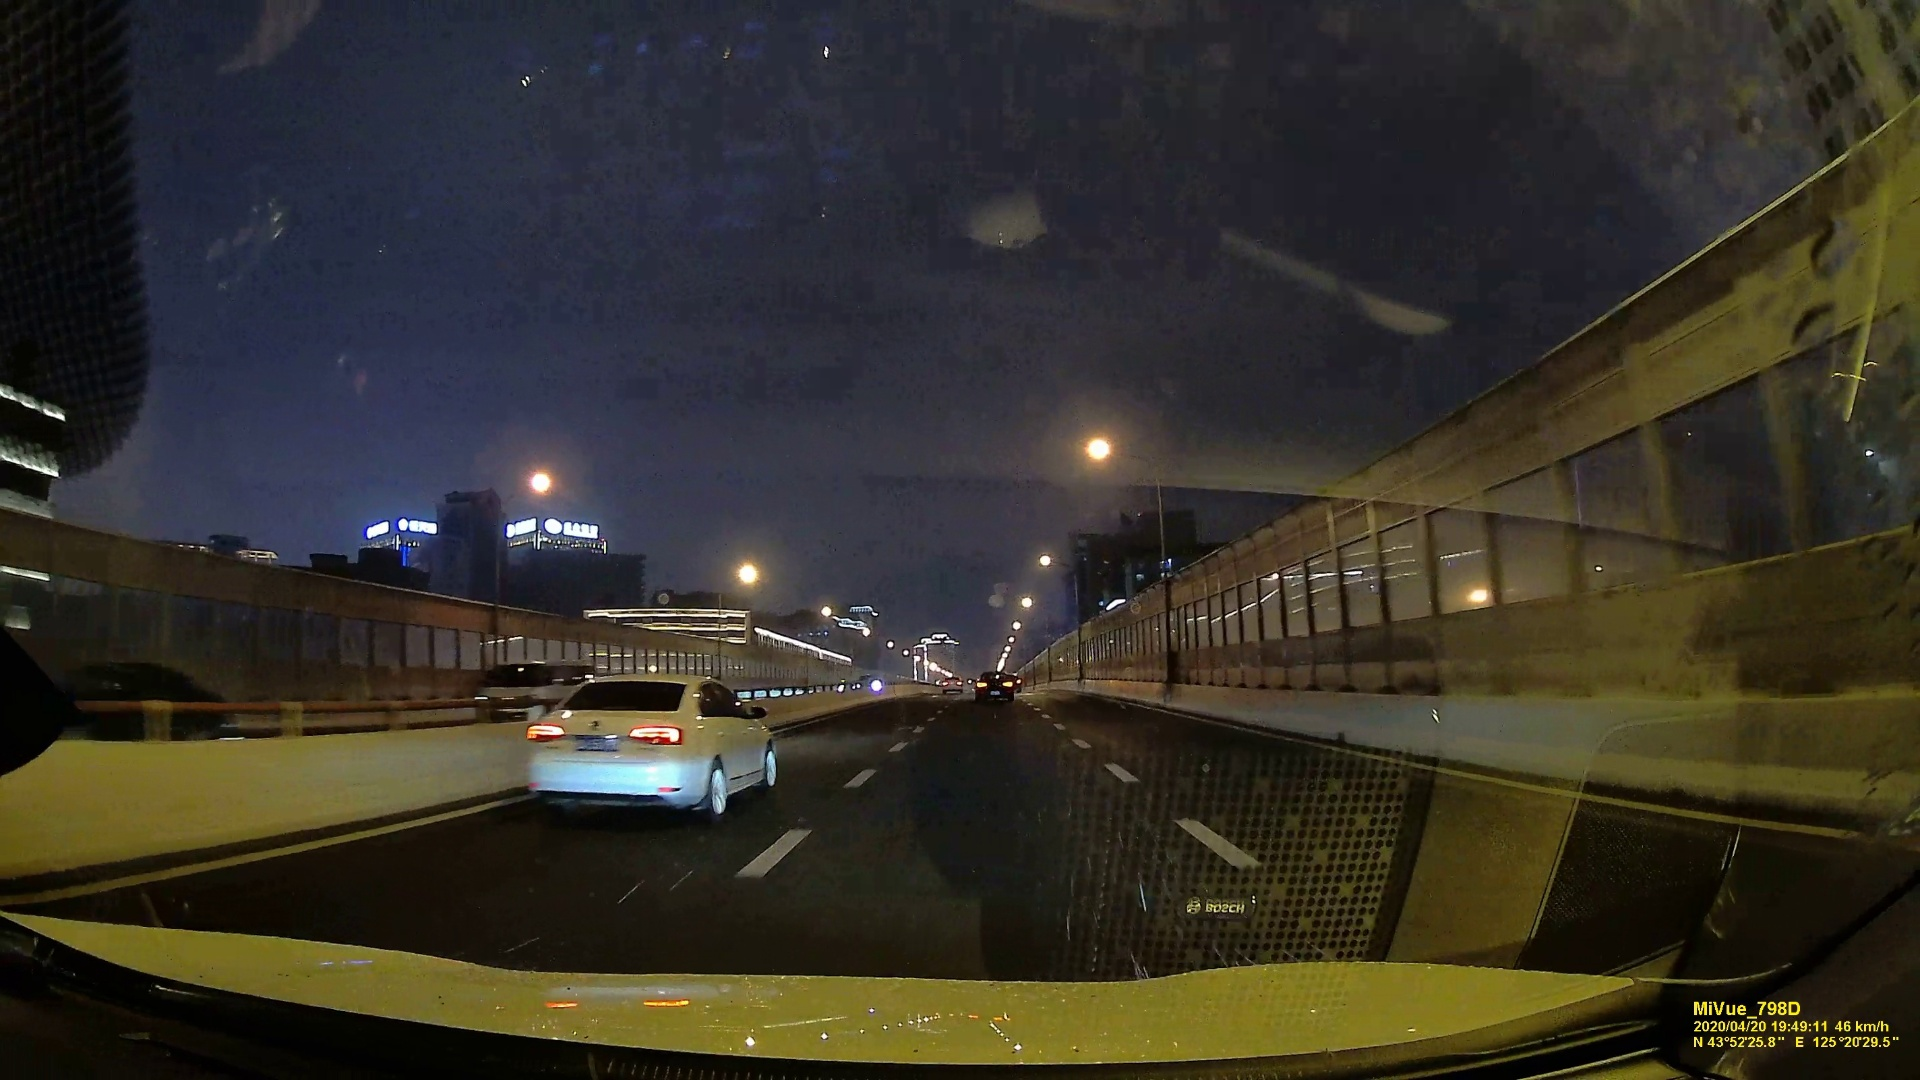vehicle: (527, 676, 778, 815), (473, 661, 568, 720), (975, 670, 1014, 702), (942, 675, 963, 694)
